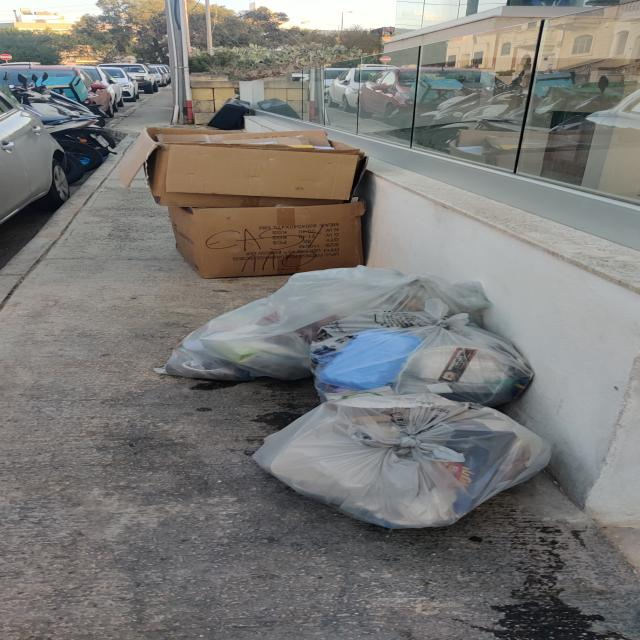Others Waste: (112, 125, 372, 279)
Recyclable Material -Grey Bags-: (144, 264, 558, 531)
